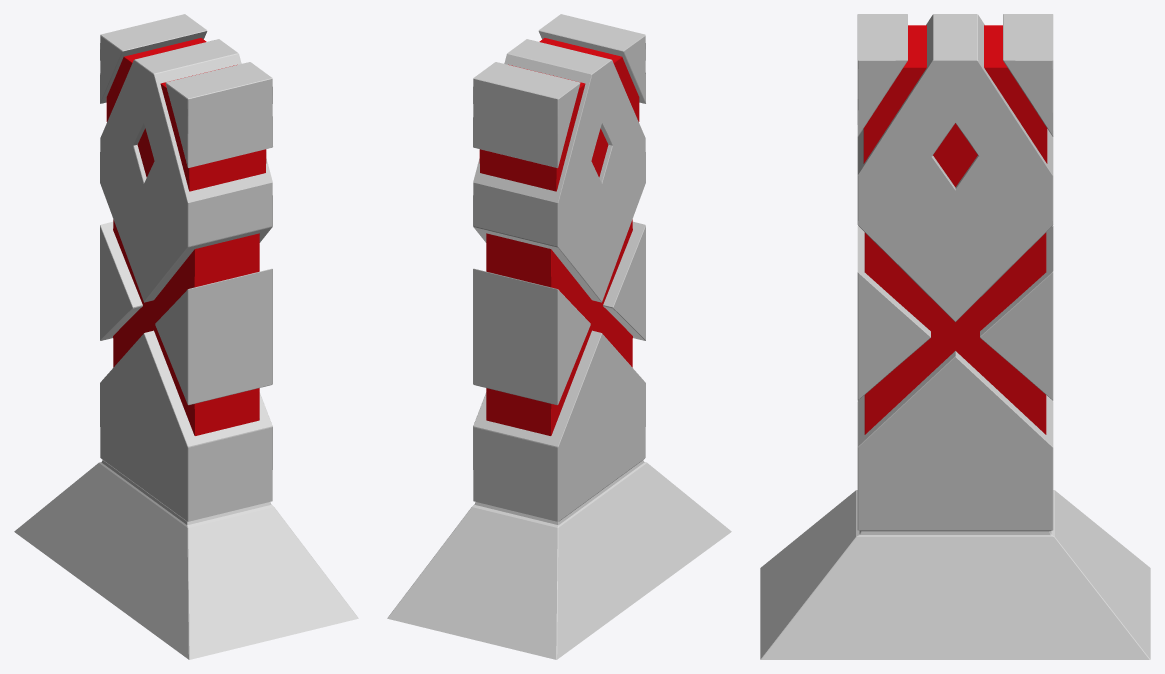
The model's file is SM_Prop_Button.fbx.
The picture shows the model from 3 angles, left to right: view 1: azimuth 30°, elevation 25°; view 2: azimuth 150°, elevation 25°; view 3: azimuth 270°, elevation 25°; orthographic projection. The views are drawn at different scales.
Parts seen in each view (by area): view 1: Cube.001; view 2: Cube.001; view 3: Cube.001.
Part boxes in pixels (left/top/right/bottom): Cube.001: left=14, top=14, right=358, bottom=659; Cube.001: left=387, top=14, right=731, bottom=659; Cube.001: left=760, top=14, right=1150, bottom=659.
Bounding box in the file's own units: 100 × 292 × 179.
